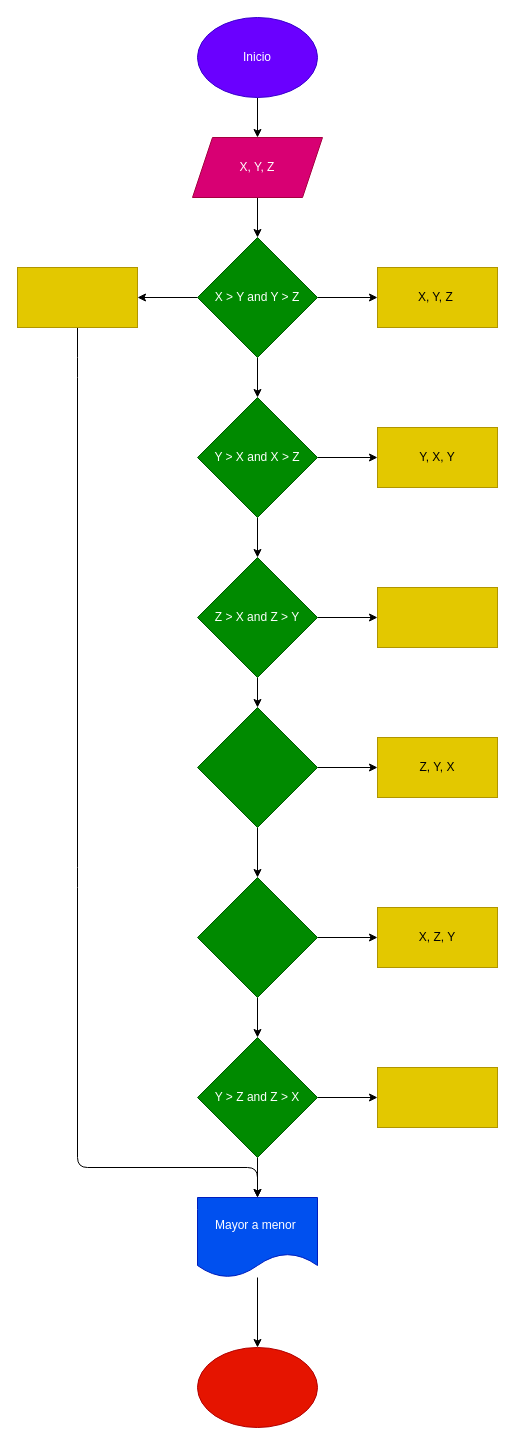
This 515x1445 diagram has some shape labels left out. Each missing label, with the box of its shape:
Fin: (196, 1346, 318, 1428)
X = Y = Z: (16, 266, 138, 328)
X > Z and Z >YZ: (196, 876, 318, 998)
Y, Z, X: (376, 1066, 498, 1128)
Z > Y and Y > X: (196, 706, 318, 828)
Z, X, Y: (376, 586, 498, 648)
